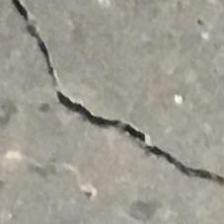Crack: (0, 1, 224, 224)
